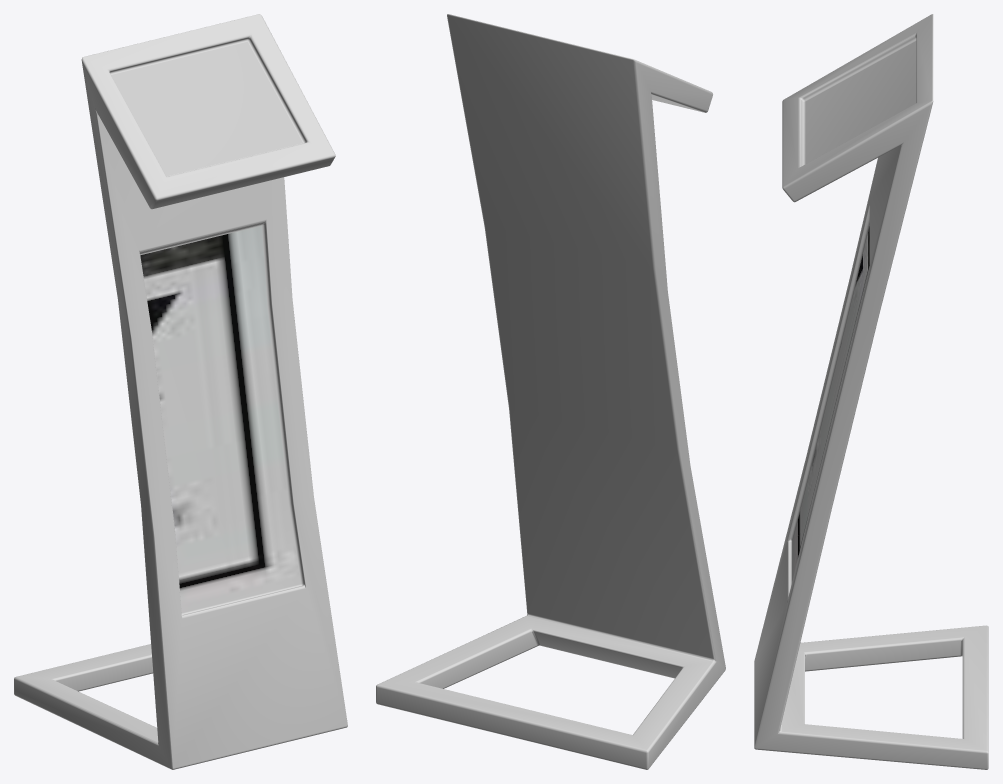
The model's file is register.fbx.
3 views of the same model, side by side, from view 1: azimuth 30°, elevation 25°; view 2: azimuth 150°, elevation 25°; view 3: azimuth 270°, elevation 25° (orthographic). The views are drawn at different scales.
Parts seen in each view (by area): view 1: register; view 2: register; view 3: register.
Part boxes in pixels (<box>): register: <box>14,14,347,769</box>; register: <box>376,14,725,769</box>; register: <box>754,14,988,769</box>.
Size of the model in its own units: 43.14 by 103 by 33.65.
